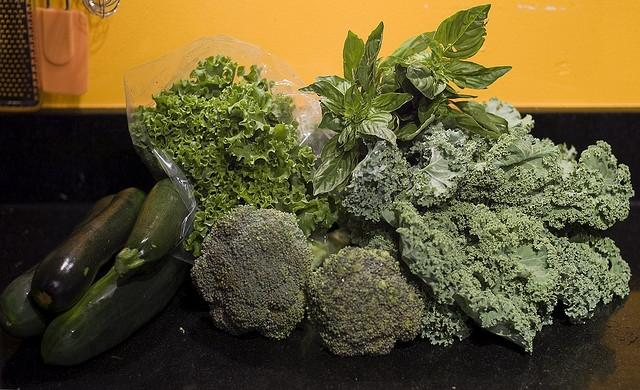broccoli: (190, 204, 350, 340), (305, 246, 424, 358)
vegetable marrow: (40, 254, 194, 368), (0, 194, 124, 327), (31, 188, 146, 314), (115, 179, 192, 278)
